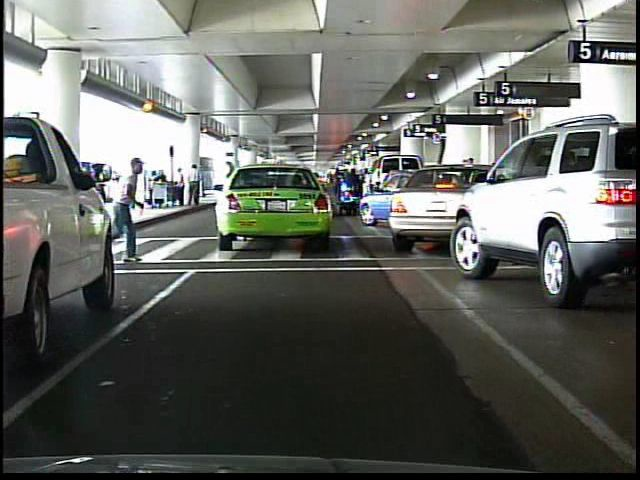person: (114, 152, 166, 270)
